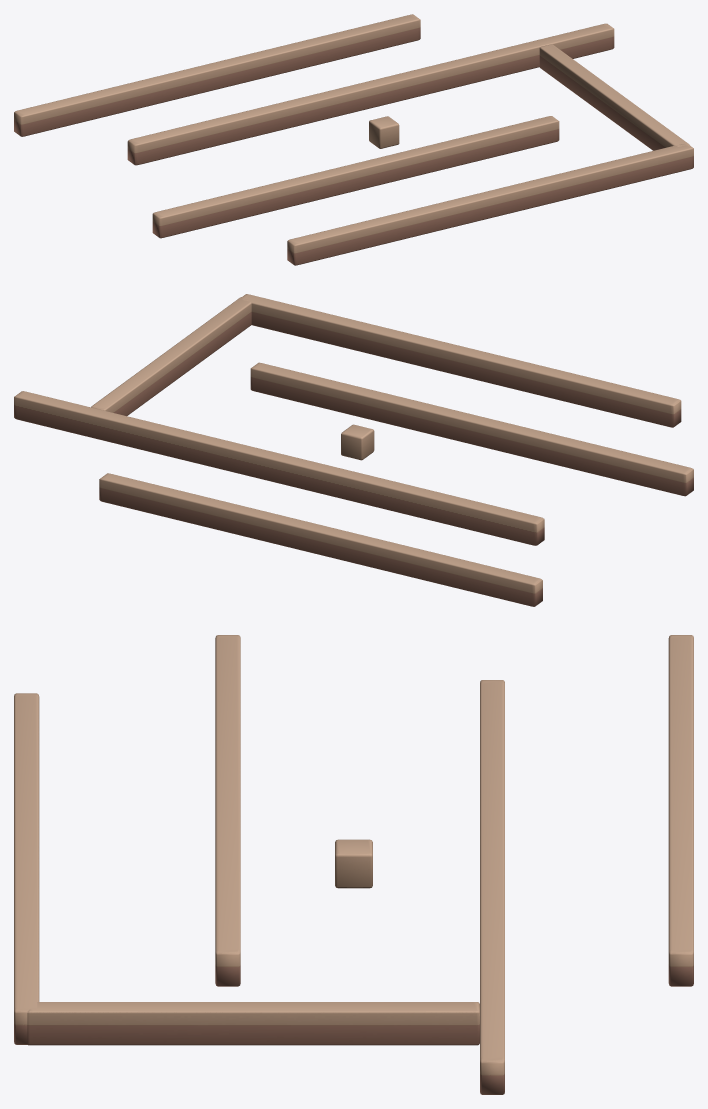
File: Props.fbx
3 views of the same model, one above another, from view 1: azimuth 30°, elevation 25°; view 2: azimuth 150°, elevation 25°; view 3: azimuth 270°, elevation 25° (orthographic). The views are drawn at different scales.
Visible parts, largest first — view 1: Box20-3_1 (4), Box20-3_1 (2), Box20-3_1 (5), Box20-3_1 (3), Box20-3_2 (7), Box1-5 (7); view 2: Box20-3_1 (4), Box20-3_1 (2), Box20-3_1 (5), Box20-3_1 (3), Box20-3_2 (7), Box1-5 (7); view 3: Box20-3_2 (7), Box20-3_1 (4), Box20-3_1 (2), Box20-3_1 (5), Box20-3_1 (3), Box1-5 (7).
Boxes of the visible parts, <box> form: Box20-3_1 (4): <box>127,23,614,165</box>; Box20-3_1 (2): <box>152,116,559,238</box>; Box20-3_1 (5): <box>14,14,420,136</box>; Box20-3_1 (3): <box>287,143,693,265</box>; Box20-3_2 (7): <box>539,44,689,150</box>; Box1-5 (7): <box>369,116,399,148</box>; Box20-3_1 (4): <box>14,391,544,545</box>; Box20-3_1 (2): <box>250,362,693,496</box>; Box20-3_1 (5): <box>99,473,542,606</box>; Box20-3_1 (3): <box>242,294,681,427</box>; Box20-3_2 (7): <box>91,297,251,415</box>; Box1-5 (7): <box>341,424,374,460</box>; Box20-3_2 (7): <box>27,1002,479,1045</box>; Box20-3_1 (4): <box>480,680,504,1094</box>; Box20-3_1 (2): <box>215,635,240,986</box>; Box20-3_1 (5): <box>668,635,693,986</box>; Box20-3_1 (3): <box>14,693,39,1044</box>; Box1-5 (7): <box>335,839,372,888</box>.
Bounding box in the file's own units: 40.2 × 1.5 × 27.
